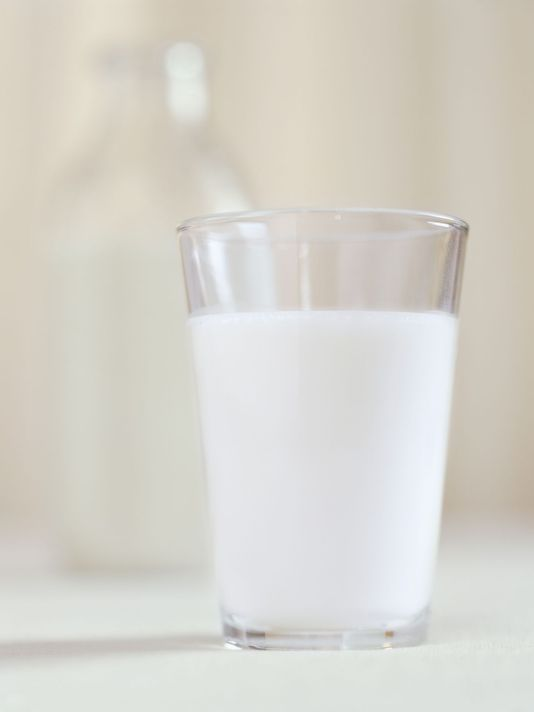glass of milk: (166, 204, 473, 655)
